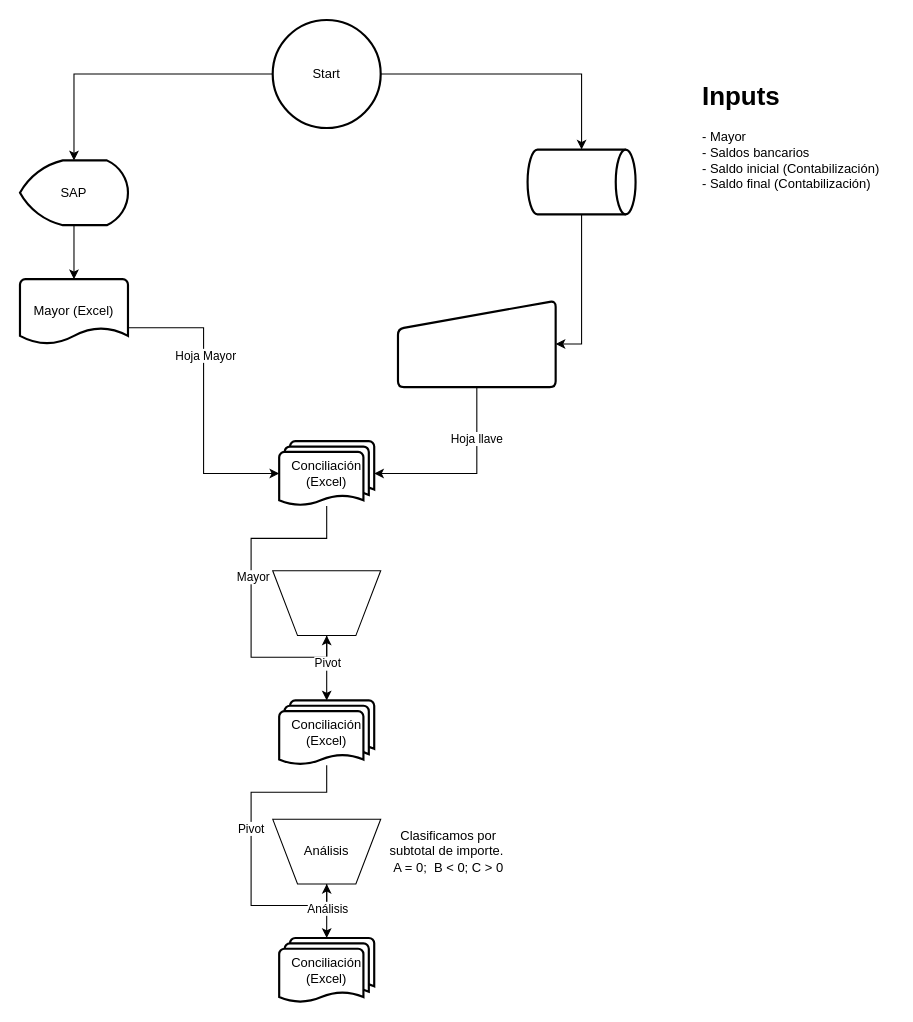
The diagram is 913 pixels wide and 1022 high, and some of its shapes have lost their labels. The shapes that lost their labels are listed below. From the top down, each one's box as (x1, y1, x2, y2) in pixels, then its label:
(526, 148, 636, 215): Mail
(396, 299, 556, 388): Saldo bancario (Importe USD & ARS)
(272, 570, 381, 636): PivotTable
